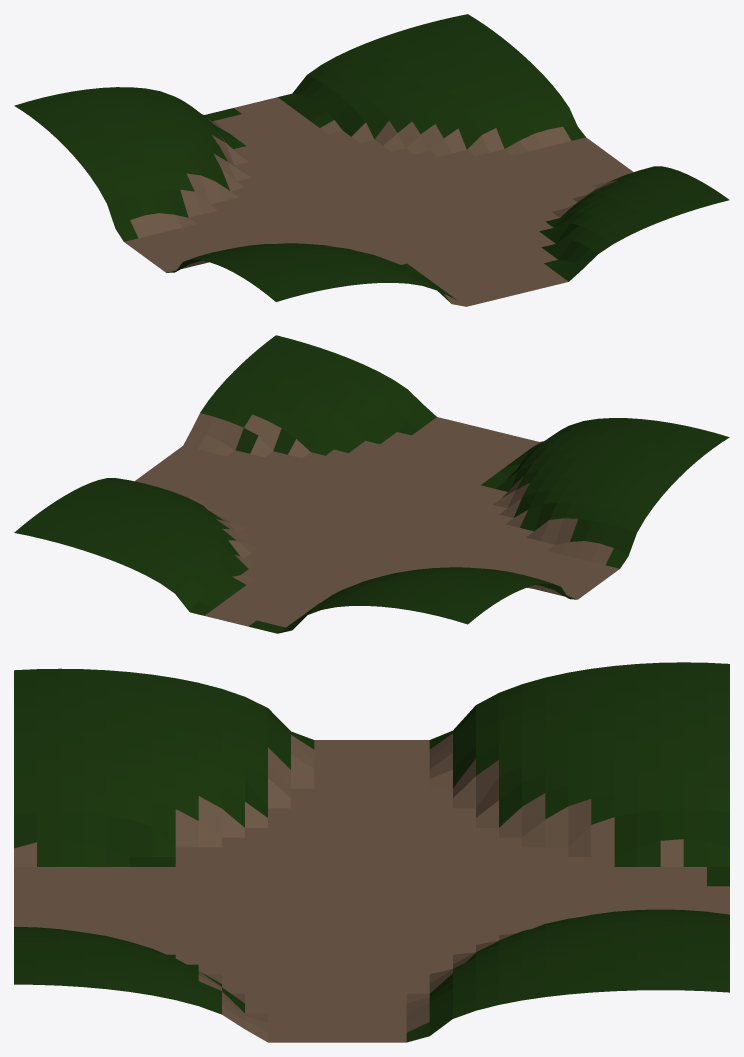
File: ValleAethelgard.glb
3 views of the same model, one above another, from view 1: azimuth 30°, elevation 25°; view 2: azimuth 150°, elevation 25°; view 3: azimuth 270°, elevation 25° (orthographic). The views are drawn at different scales.
Parts seen in each view (by area): view 1: Valle_Terreno; view 2: Valle_Terreno; view 3: Valle_Terreno.
Boxes of the visible parts, x1,y1,x2,y2 form: Valle_Terreno: [14, 14, 729, 306]; Valle_Terreno: [14, 335, 729, 633]; Valle_Terreno: [14, 662, 729, 1042].
Bounding box in the file's own units: 200 × 24.4 × 200.
